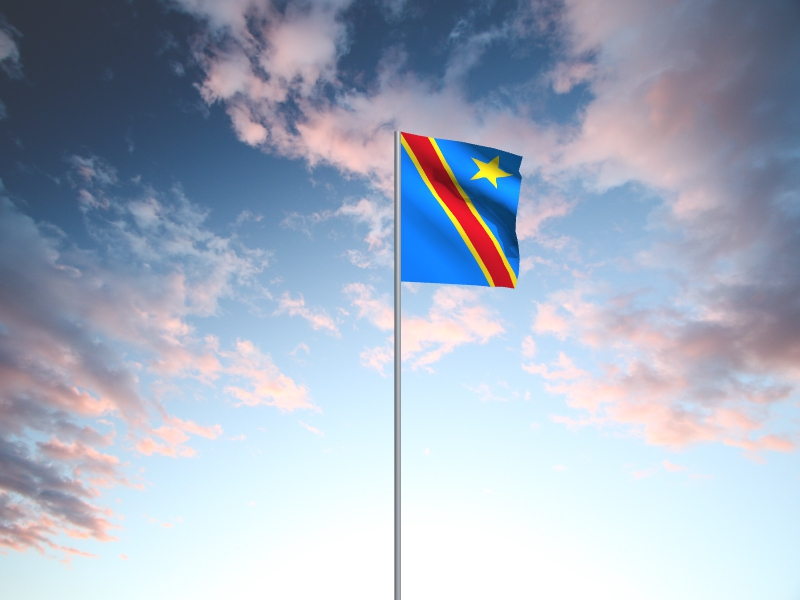cd: (402, 133, 525, 290)
